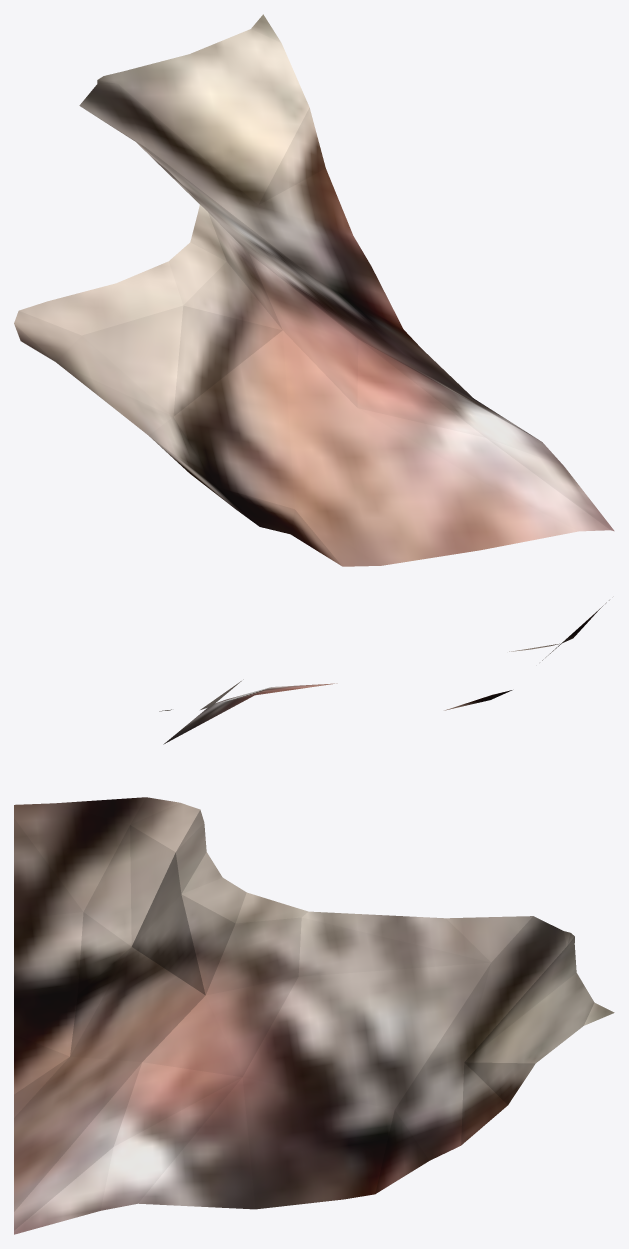
3 views of the same model, one above another, from view 1: azimuth 30°, elevation 25°; view 2: azimuth 150°, elevation 25°; view 3: azimuth 270°, elevation 25° (orthographic). The views are drawn at different scales.
Size of the model in its own units: 0.2084 by 0.1001 by 0.2456.
1 material, 1 textured.
